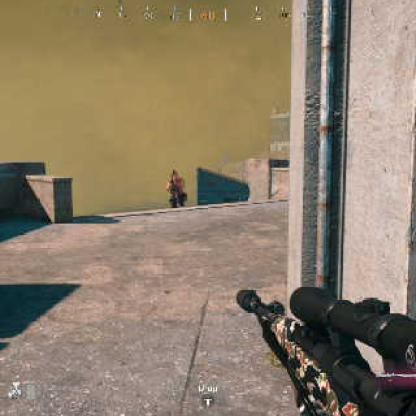enemy: (165, 168, 189, 208)
